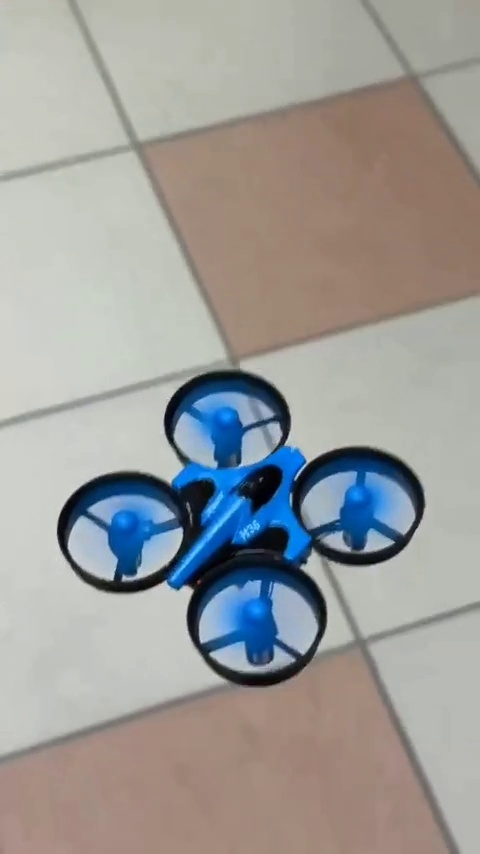drone: (56, 367, 427, 674)
